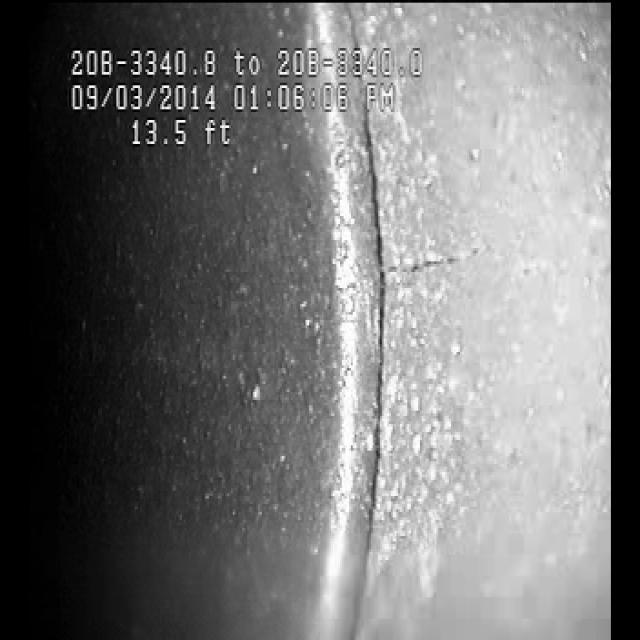Crack: (389, 161, 572, 341)
